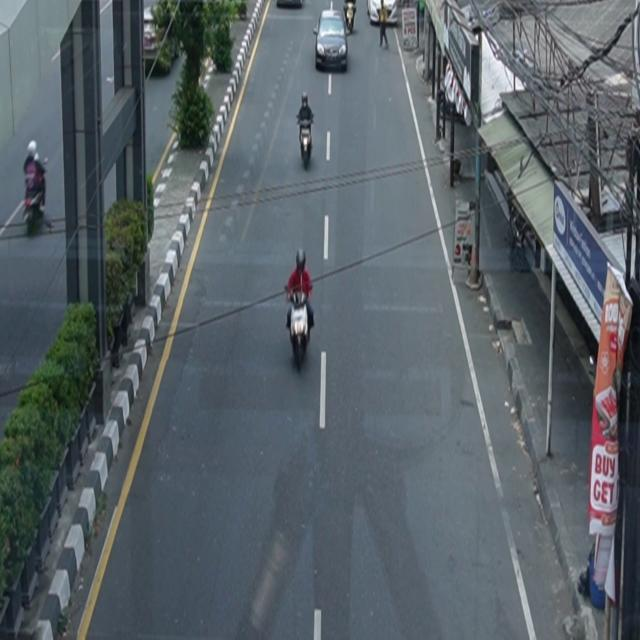car: (314, 9, 349, 72)
